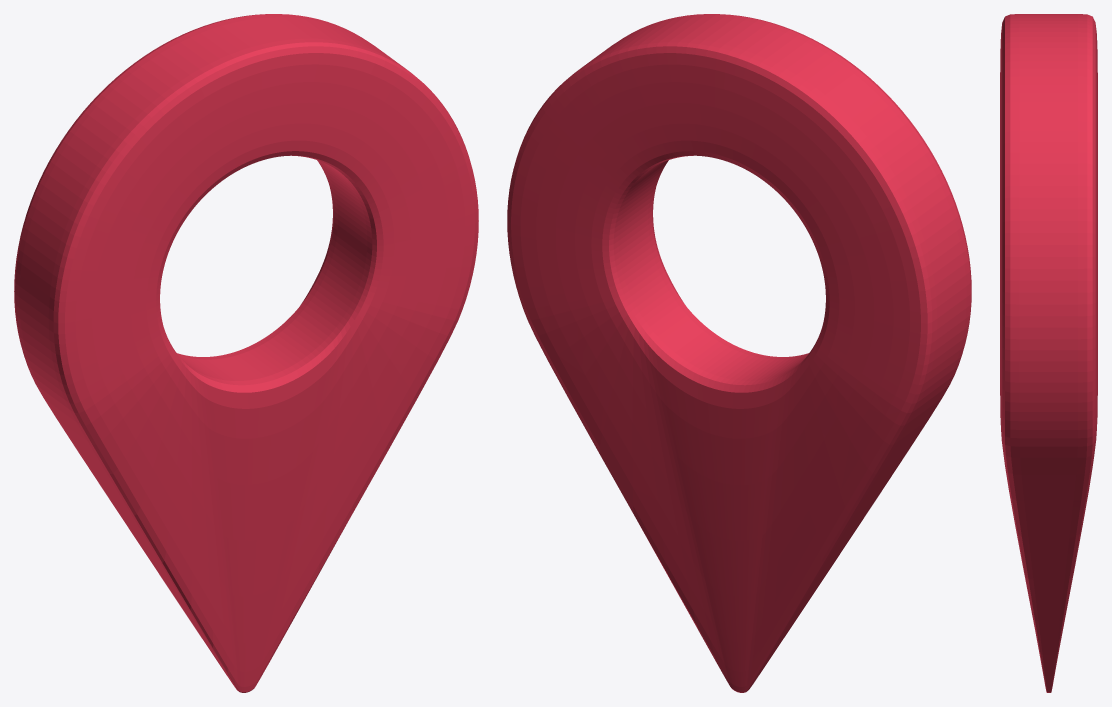
Rendered from pinpoint.glb.
3 views of the same model, side by side, from view 1: azimuth 30°, elevation 25°; view 2: azimuth 150°, elevation 25°; view 3: azimuth 270°, elevation 25° (orthographic).
Visible parts, largest first — view 1: Cylinder; view 2: Cylinder; view 3: Cylinder.
Part boxes in pixels (bbox=[...]): Cylinder: bbox=[14, 14, 478, 692]; Cylinder: bbox=[507, 14, 971, 692]; Cylinder: bbox=[1000, 14, 1097, 692].
Size of the model in its own units: 39.74 by 58.81 by 7.95.
